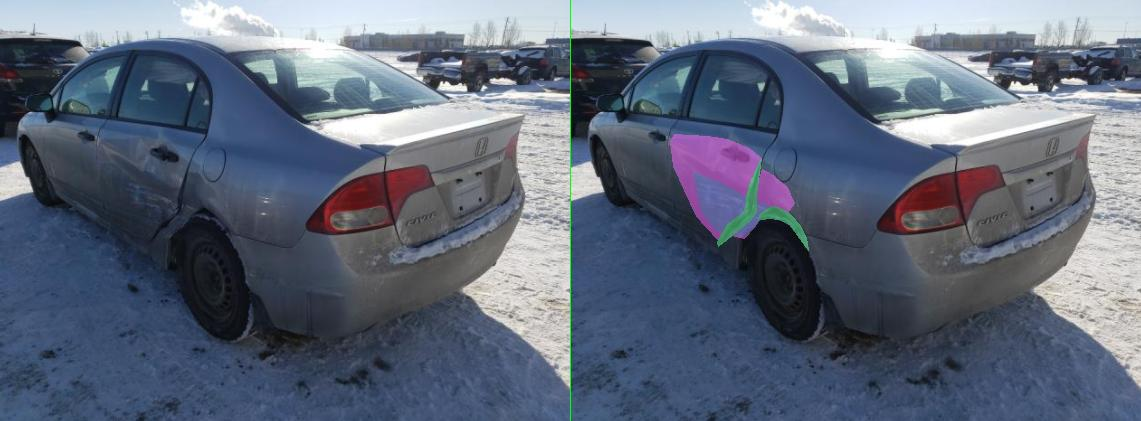Broken part: (292, 158, 380, 246), (372, 206, 474, 250)
Dent: (198, 134, 380, 240), (320, 169, 446, 238)
Scratch: (244, 172, 398, 235)
